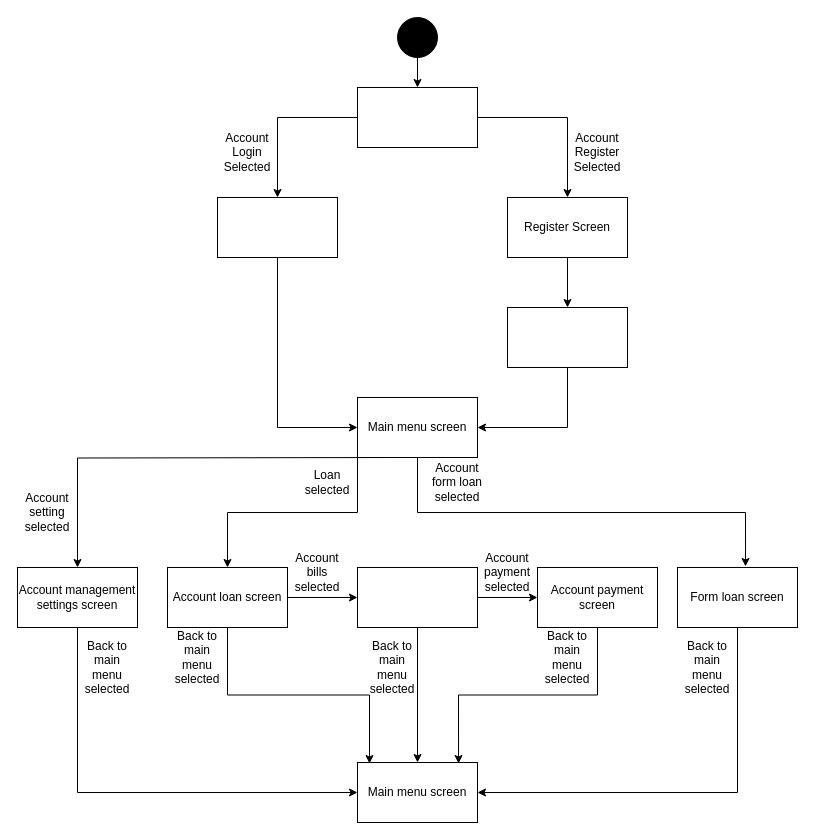
Some shapes in this 815 by 840 pixel diagram are drawn without their labels. The box of each missing label's shape, as (x1, y1, x2, y2) in pixels:
Account bills screen: (356, 566, 478, 628)
Login Screen: (216, 196, 338, 258)
OTP Form Screen: (506, 306, 628, 368)
Welcome Screen: (356, 86, 478, 148)
